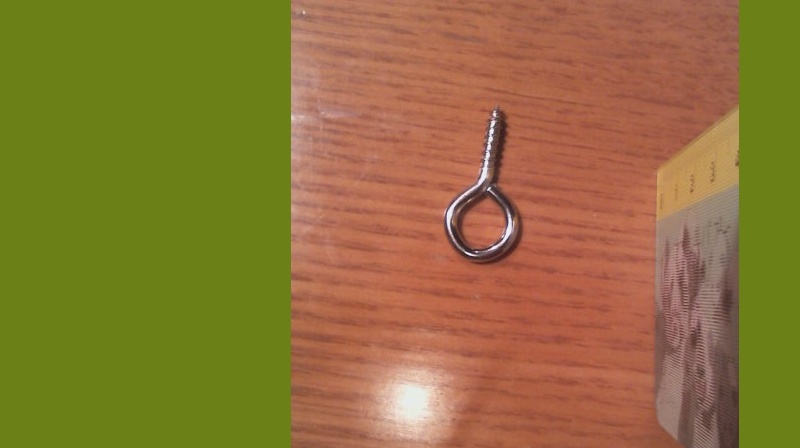O001: (440, 102, 524, 266)
